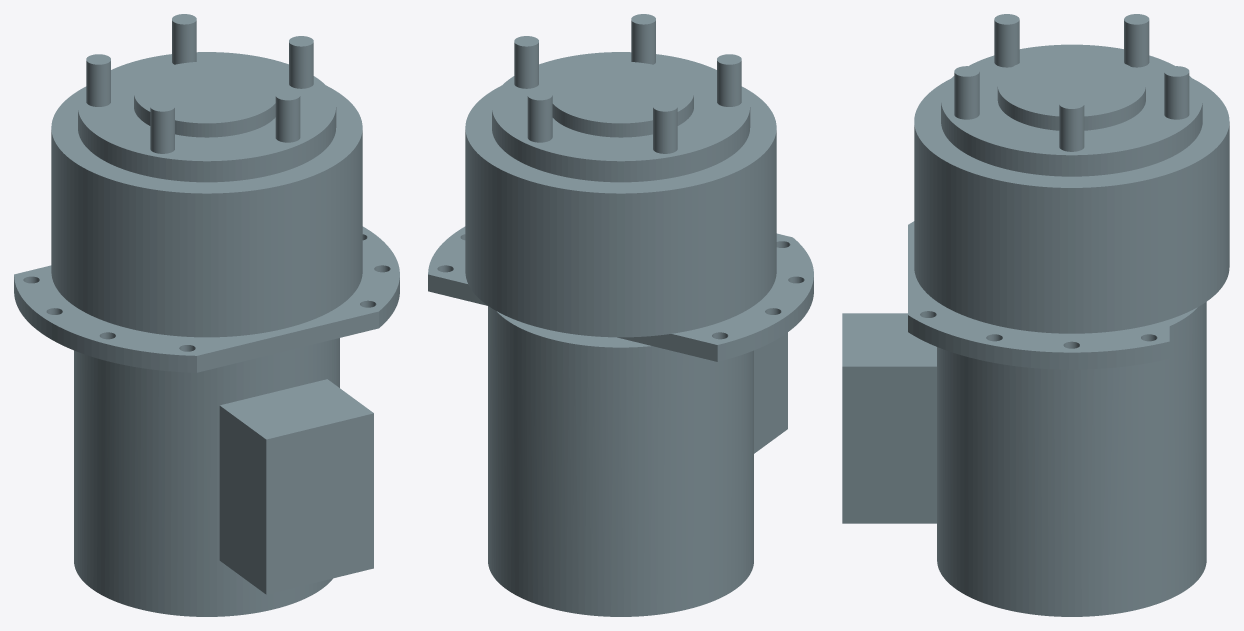
The model's file is drive_envelope_WD220.glb.
3 renders of one model, left to right at view 1: azimuth 30°, elevation 25°; view 2: azimuth 150°, elevation 25°; view 3: azimuth 270°, elevation 25°, orthographic.
Visible parts, largest first — view 1: stator, rotor_with_studs; view 2: stator, rotor_with_studs; view 3: stator, rotor_with_studs.
Part boxes in pixels (x1,y1,x2,y2): stator: (14, 226, 399, 616); rotor_with_studs: (51, 14, 362, 337); stator: (428, 226, 813, 616); rotor_with_studs: (465, 14, 776, 337); stator: (842, 221, 1206, 616); rotor_with_studs: (914, 14, 1229, 333).
Size of the model in its own units: 0.248 by 0.352 by 0.2455.
